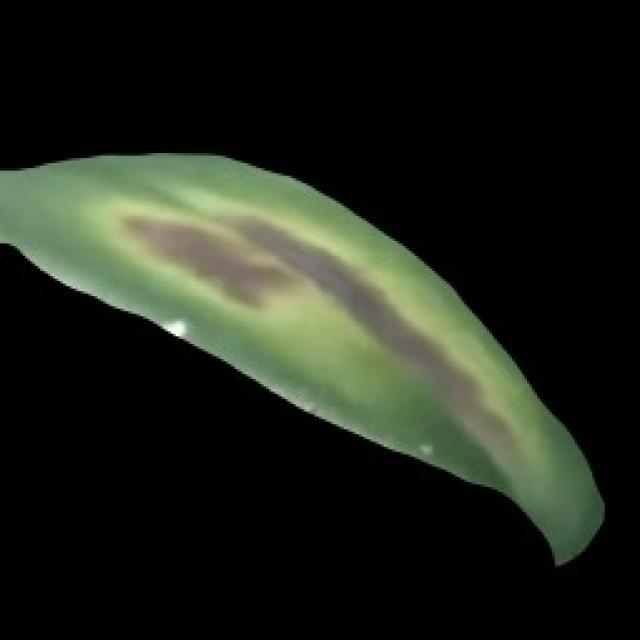mite: (409, 432, 439, 464), (158, 314, 188, 341), (414, 439, 434, 457)
spots: (0, 143, 607, 567)
